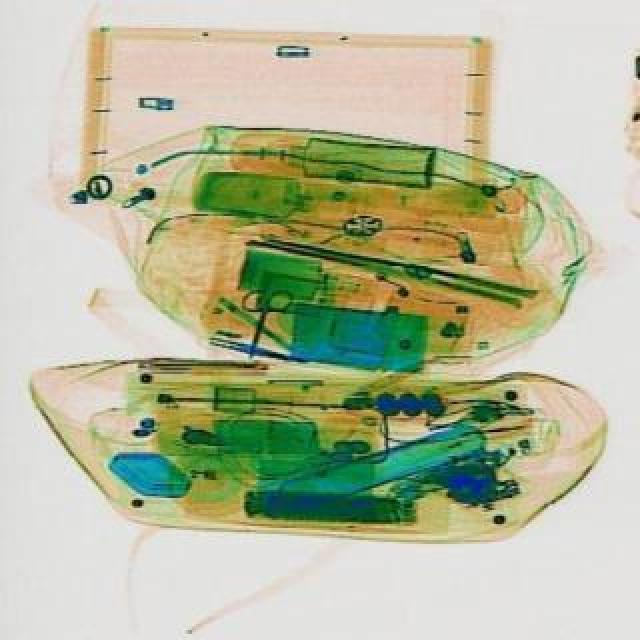pliers: (224, 280, 292, 364)
